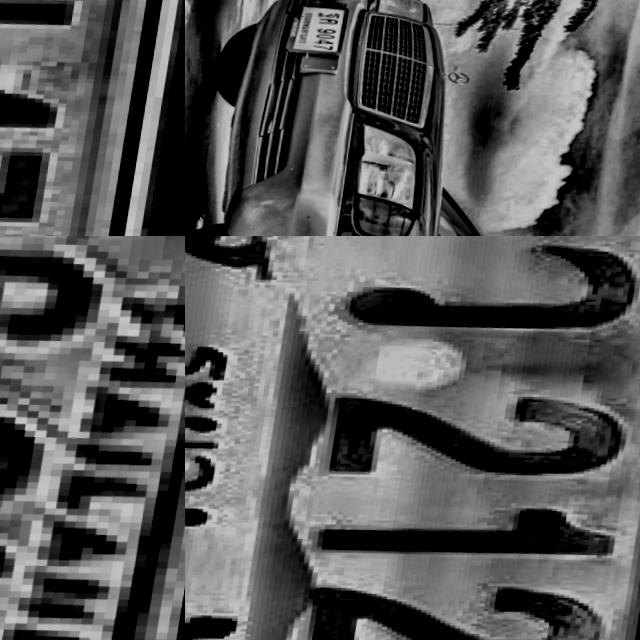license-plate: (185, 236, 640, 640), (0, 236, 185, 640), (0, 0, 185, 236), (278, 0, 365, 65)
